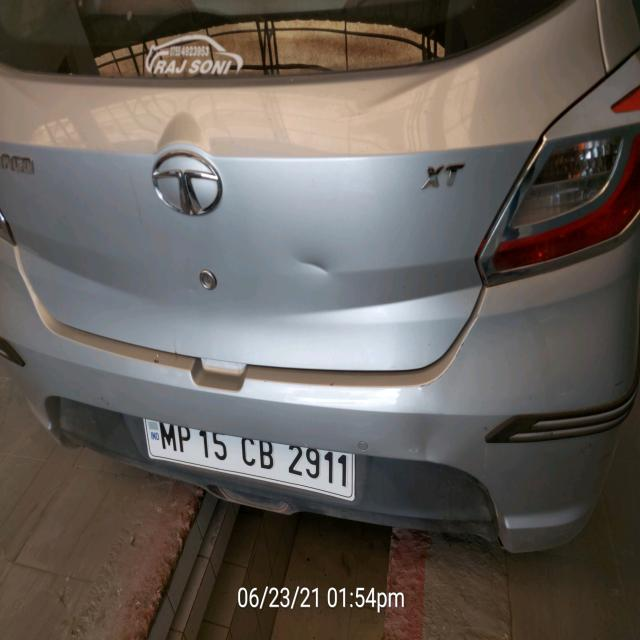damage: (286, 268, 473, 346), (395, 387, 471, 472), (284, 246, 338, 285)
